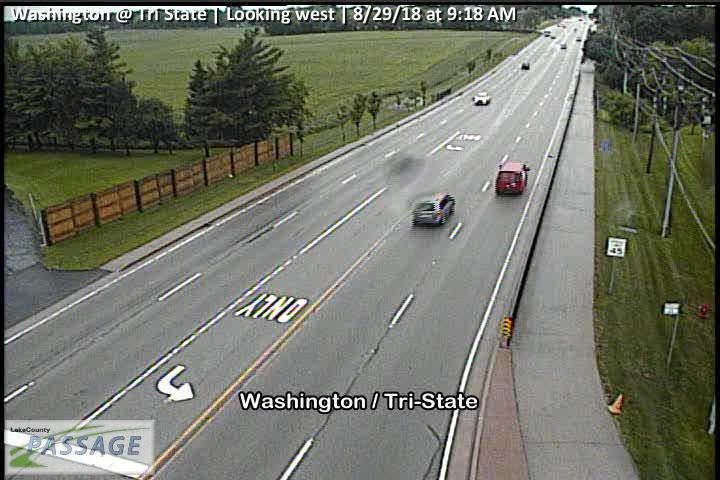SUV: (410, 189, 456, 225)
Sedan: (493, 160, 531, 199), (474, 90, 492, 106)
